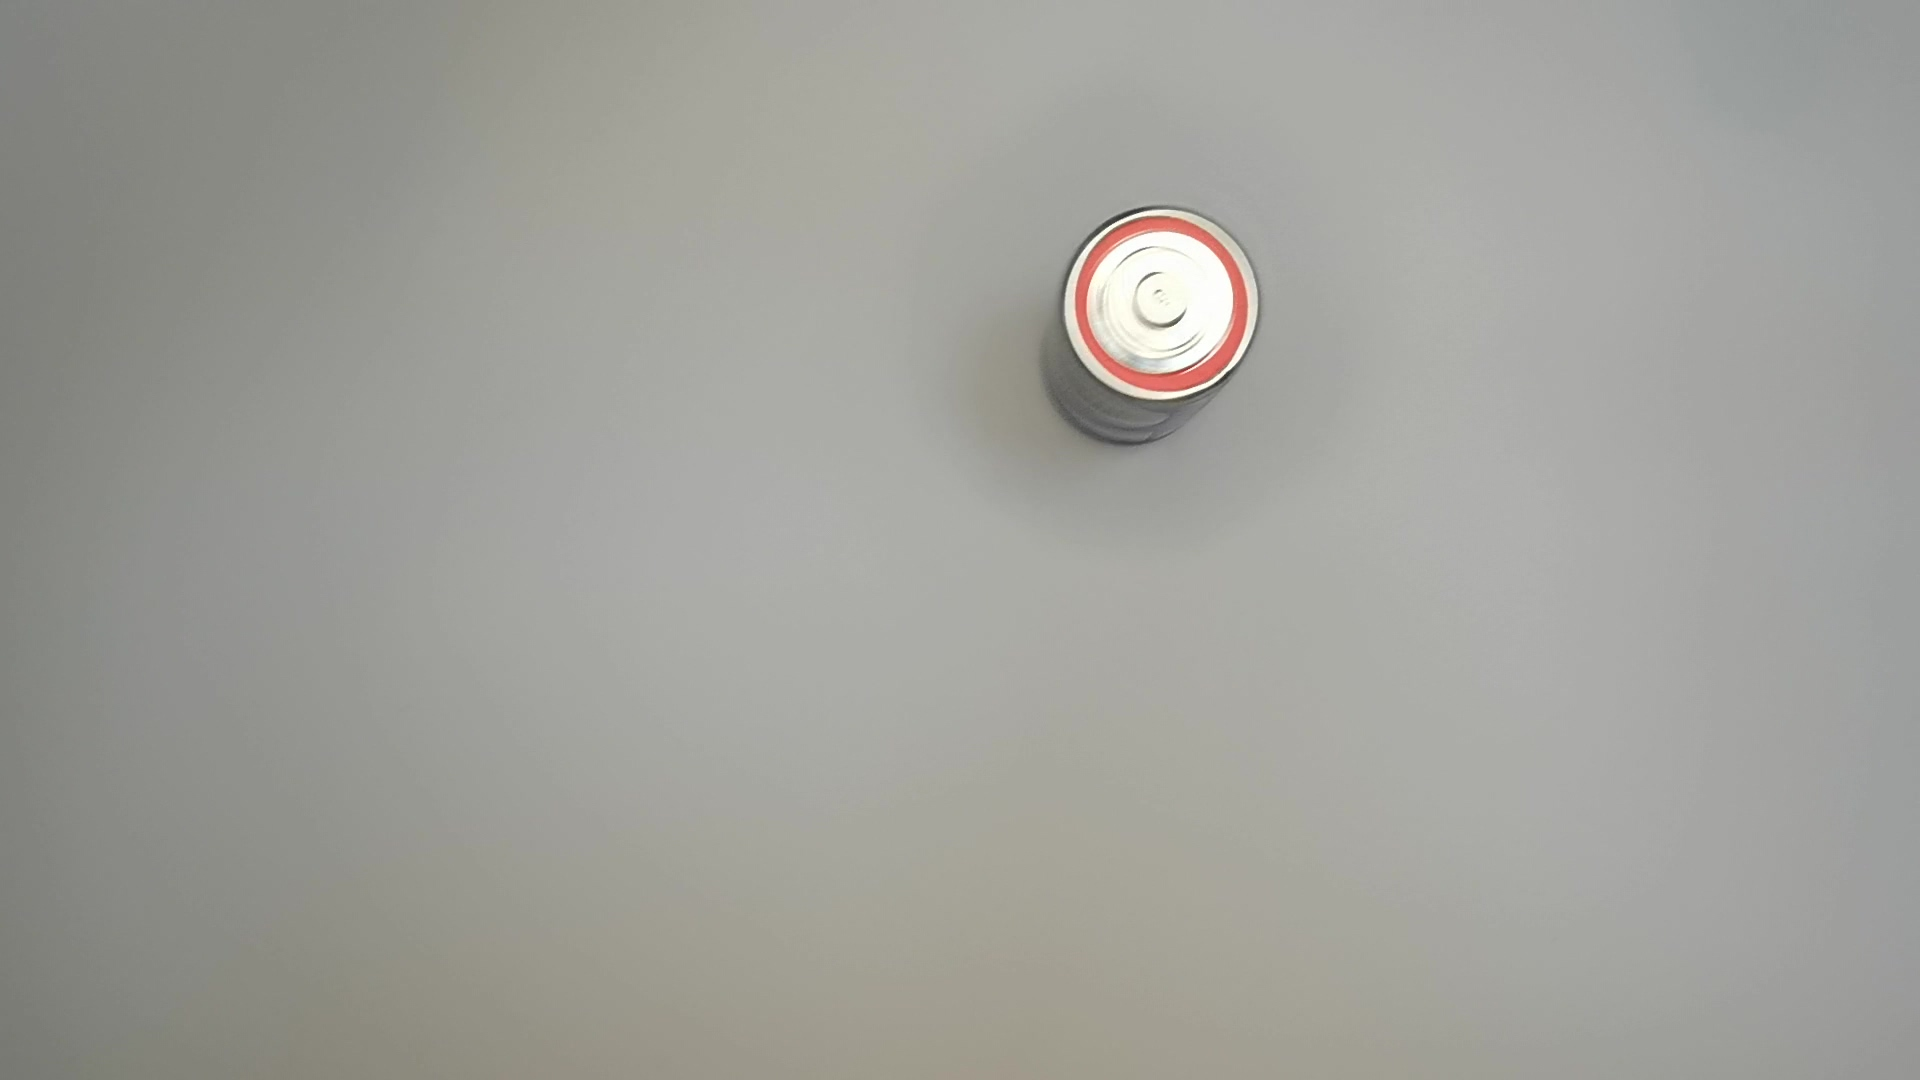battery: (1036, 200, 1266, 454)
